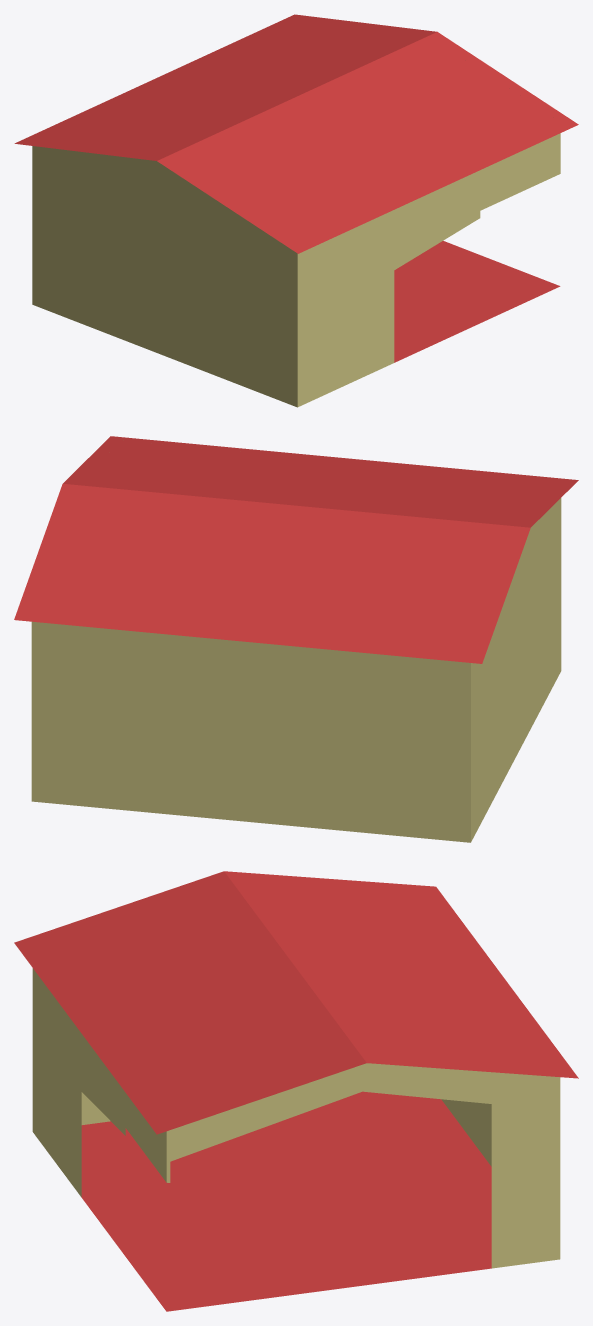
3 views of the same model, one above another, from view 1: azimuth 30°, elevation 25°; view 2: azimuth 150°, elevation 25°; view 3: azimuth 270°, elevation 25° (orthographic). The views are drawn at different scales.
Bounding box in the file's own units: 39.64 × 38.15 × 17.03.
